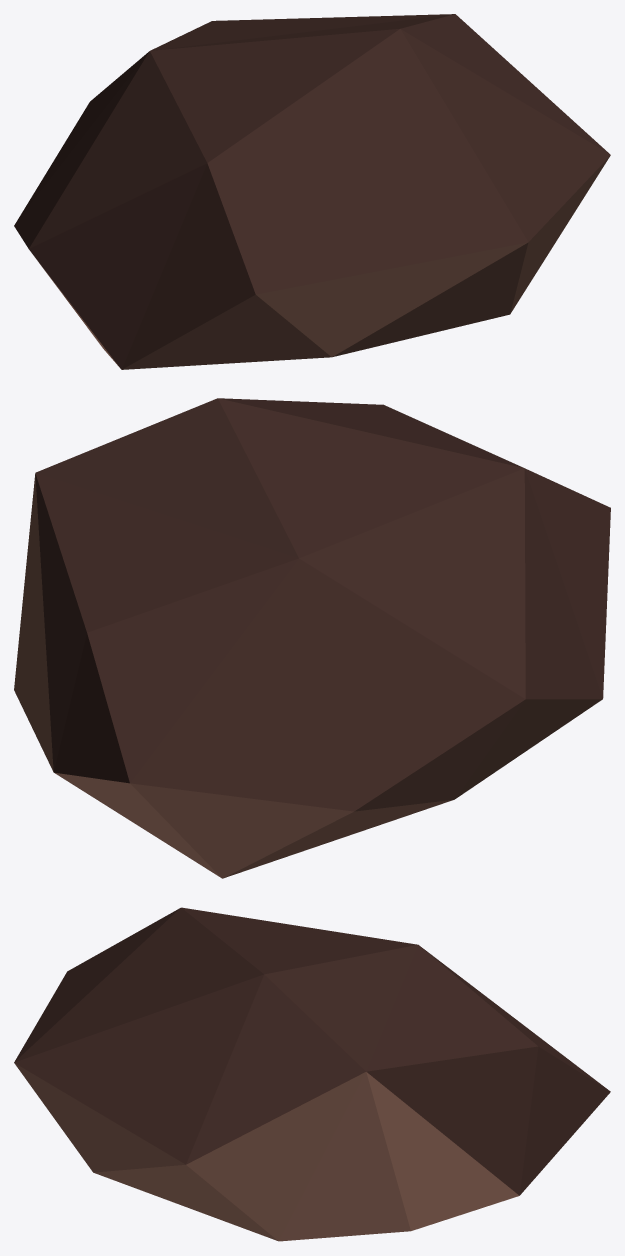
The model's file is Brown_stone_004.fbx.
The picture shows the model from 3 angles, top to bottom: view 1: azimuth 30°, elevation 25°; view 2: azimuth 150°, elevation 25°; view 3: azimuth 270°, elevation 25°; orthographic projection. The views are drawn at different scales.
Visible parts, largest first — view 1: Brown_stone_004; view 2: Brown_stone_004; view 3: Brown_stone_004.
Part boxes in pixels (x1=…): Brown_stone_004: x1=14, y1=14, x2=610, y2=369; Brown_stone_004: x1=14, y1=398, x2=610, y2=878; Brown_stone_004: x1=14, y1=907, x2=610, y2=1241.
Size of the model in its own units: 63.91 by 75.39 by 38.56.
